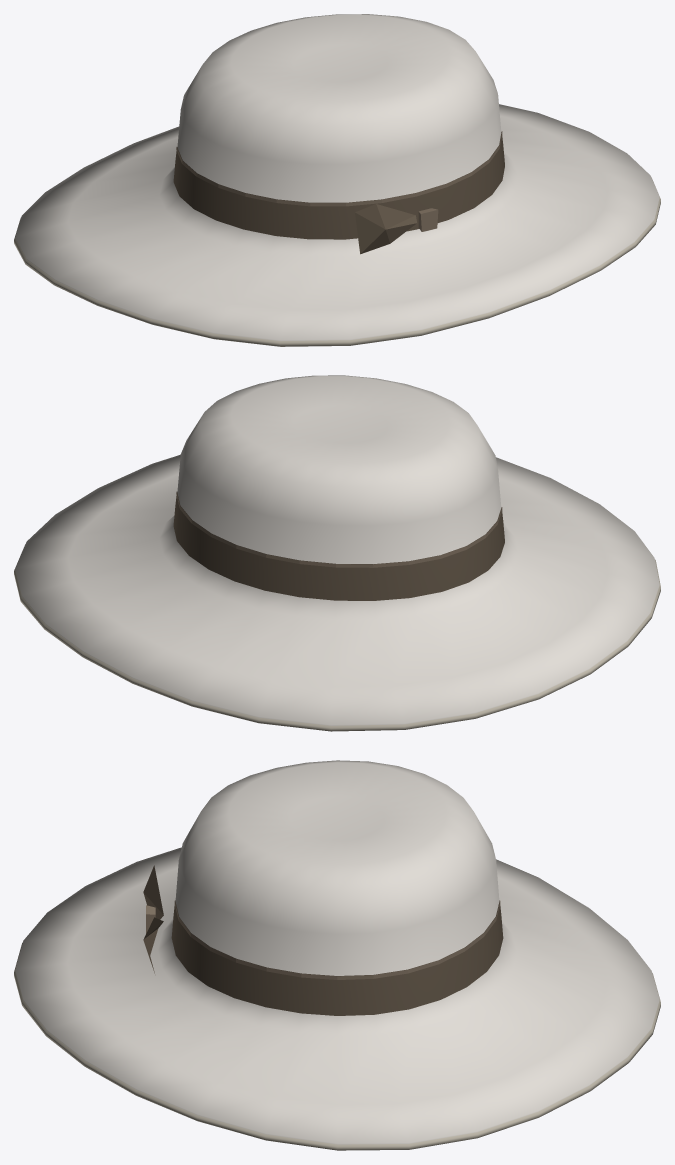
Rendered from millinery-hat.glb.
3 renders of one model, top to bottom at view 1: azimuth 30°, elevation 25°; view 2: azimuth 150°, elevation 25°; view 3: azimuth 270°, elevation 25°, orthographic. The views are drawn at different scales.
Visible parts, largest first — view 1: Surface; view 2: Surface; view 3: Surface.
Part boxes in pixels (<box>): Surface: <box>14,14,660,346</box>; Surface: <box>14,375,660,731</box>; Surface: <box>14,760,660,1150</box>.
Bounding box in the file's own units: 0.522 × 0.1601 × 0.4698.
